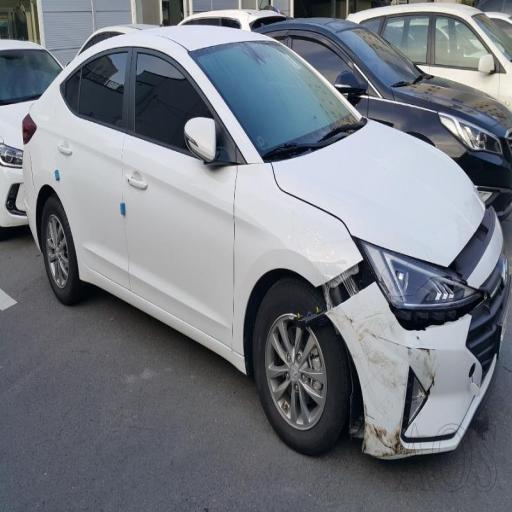broken: (293, 225, 424, 321)
scratch: (344, 331, 432, 453)
